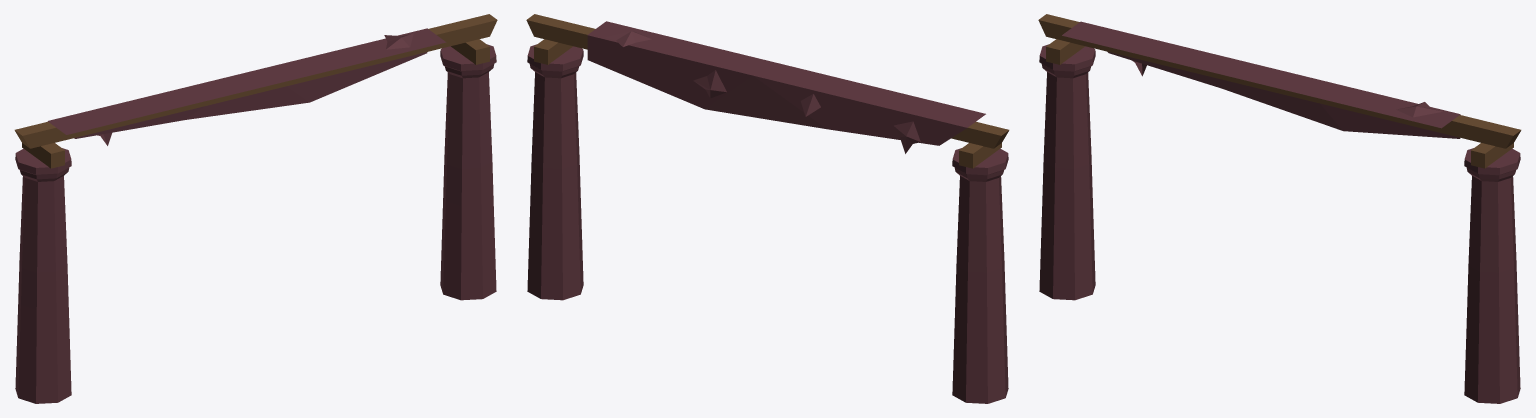
Rendered from SM_Colonnade_End_Ivy_Empire.fbx.
The picture shows the model from 3 angles, left to right: view 1: azimuth 30°, elevation 25°; view 2: azimuth 150°, elevation 25°; view 3: azimuth 330°, elevation 25°; orthographic projection.
Visible parts, largest first — view 1: SM_Colonnade_End_Ivy_Empire; view 2: SM_Colonnade_End_Ivy_Empire; view 3: SM_Colonnade_End_Ivy_Empire.
Boxes of the visible parts, left/top/right/bottom form: SM_Colonnade_End_Ivy_Empire: left=14, top=14, right=497, bottom=403; SM_Colonnade_End_Ivy_Empire: left=526, top=14, right=1009, bottom=403; SM_Colonnade_End_Ivy_Empire: left=1038, top=14, right=1521, bottom=403.
Size of the model in its own units: 6.71 by 3.66 by 0.7145.
